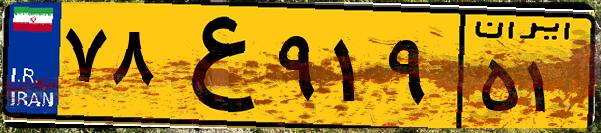1: (330, 28, 385, 110), (525, 38, 570, 115)
5: (475, 38, 525, 113)
7: (57, 26, 110, 100)
8: (110, 28, 158, 98)
9: (270, 28, 330, 110), (385, 28, 445, 110)
ع: (158, 12, 270, 120)
